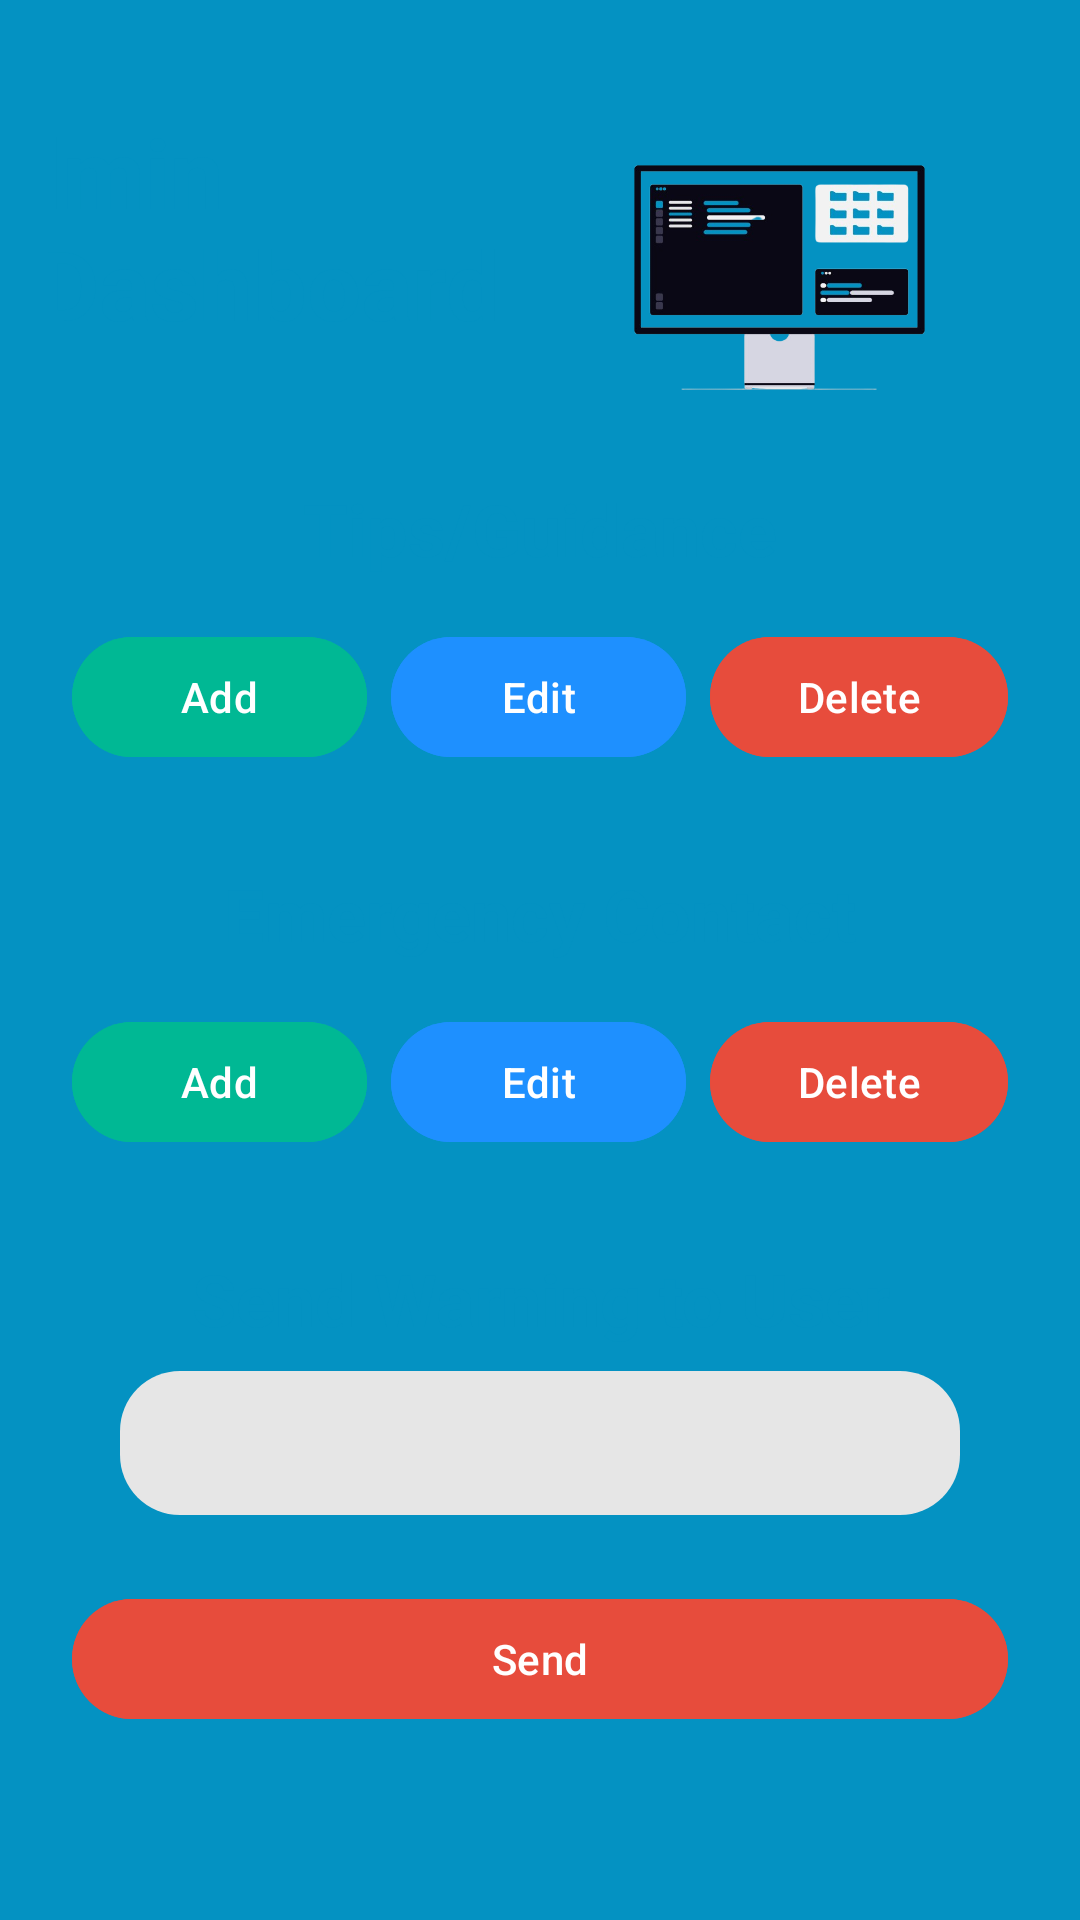

Screen size 1080px x 1920px. Icon name, then its box in pixels as (x1, y1, x2, y2):
admin illustrate: (634, 165, 925, 390)
